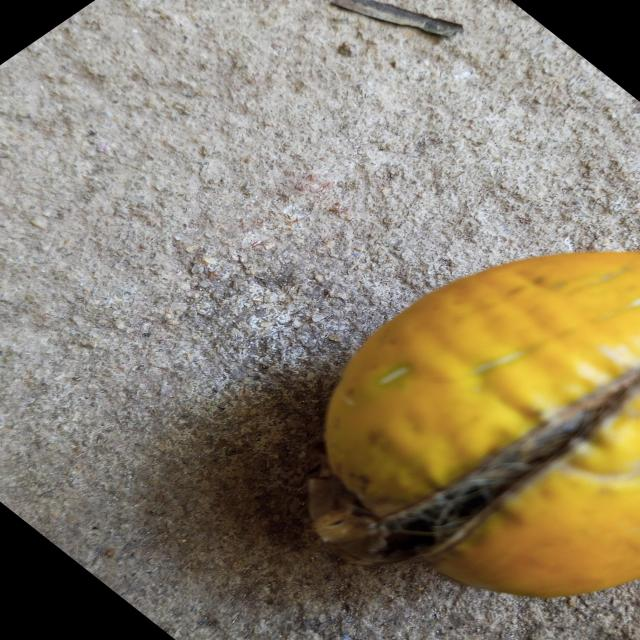damaged: (308, 252, 640, 597)
